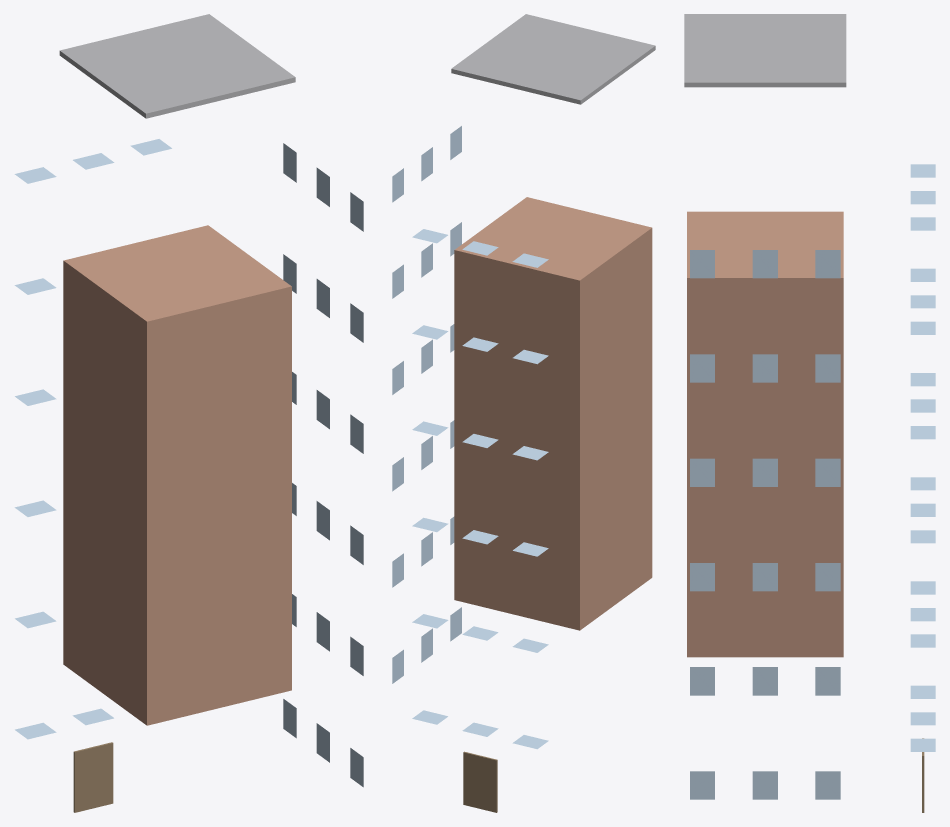
Rendered from mesh_building_apartment.fbx.
The picture shows the model from 3 angles, left to right: view 1: azimuth 30°, elevation 25°; view 2: azimuth 150°, elevation 25°; view 3: azimuth 270°, elevation 25°; orthographic projection. The views are drawn at different scales.
Visible parts, largest first — view 1: mesh_building_apartment; view 2: mesh_building_apartment; view 3: mesh_building_apartment.
Part boxes in pixels (box(x1,y1,x2,y2)): mesh_building_apartment: box(14, 14, 363, 812); mesh_building_apartment: box(392, 14, 655, 812); mesh_building_apartment: box(684, 14, 935, 812).
Bounding box in the file's own units: 2.28 × 7.97 × 2.4.
